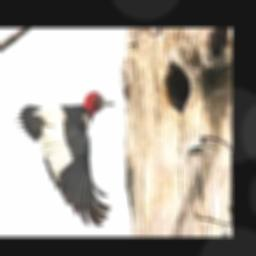Woodpecker: (14, 92, 114, 227)
